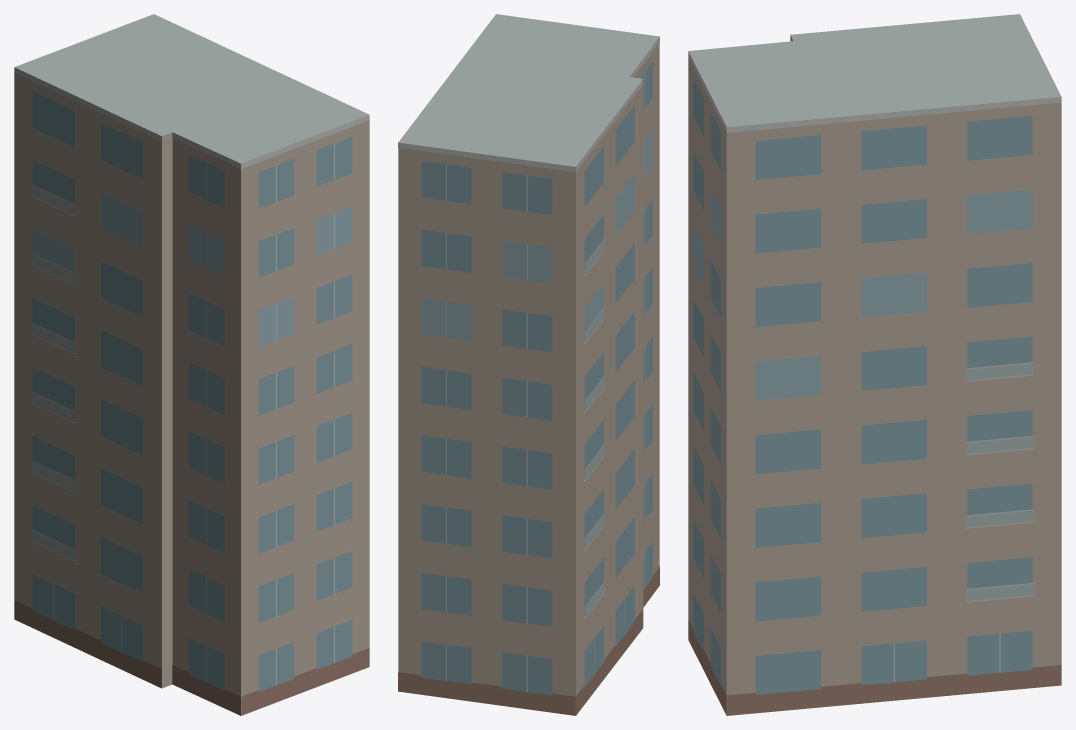
The model's file is survey-upis-32529380.glb.
3 renders of one model, left to right at view 1: azimuth 30°, elevation 25°; view 2: azimuth 150°, elevation 25°; view 3: azimuth 270°, elevation 25°, orthographic. The views are drawn at different scales.
Parts seen in each view (by area): view 1: survey-upis-32529380.tmp; view 2: survey-upis-32529380.tmp; view 3: survey-upis-32529380.tmp.
Boxes of the visible parts, x1=… form: survey-upis-32529380.tmp: x1=14, y1=14, x2=369, y2=715; survey-upis-32529380.tmp: x1=398, y1=14, x2=659, y2=715; survey-upis-32529380.tmp: x1=688, y1=14, x2=1061, y2=715.
Bounding box in the file's own units: 10.37 × 25.1 × 14.44.
